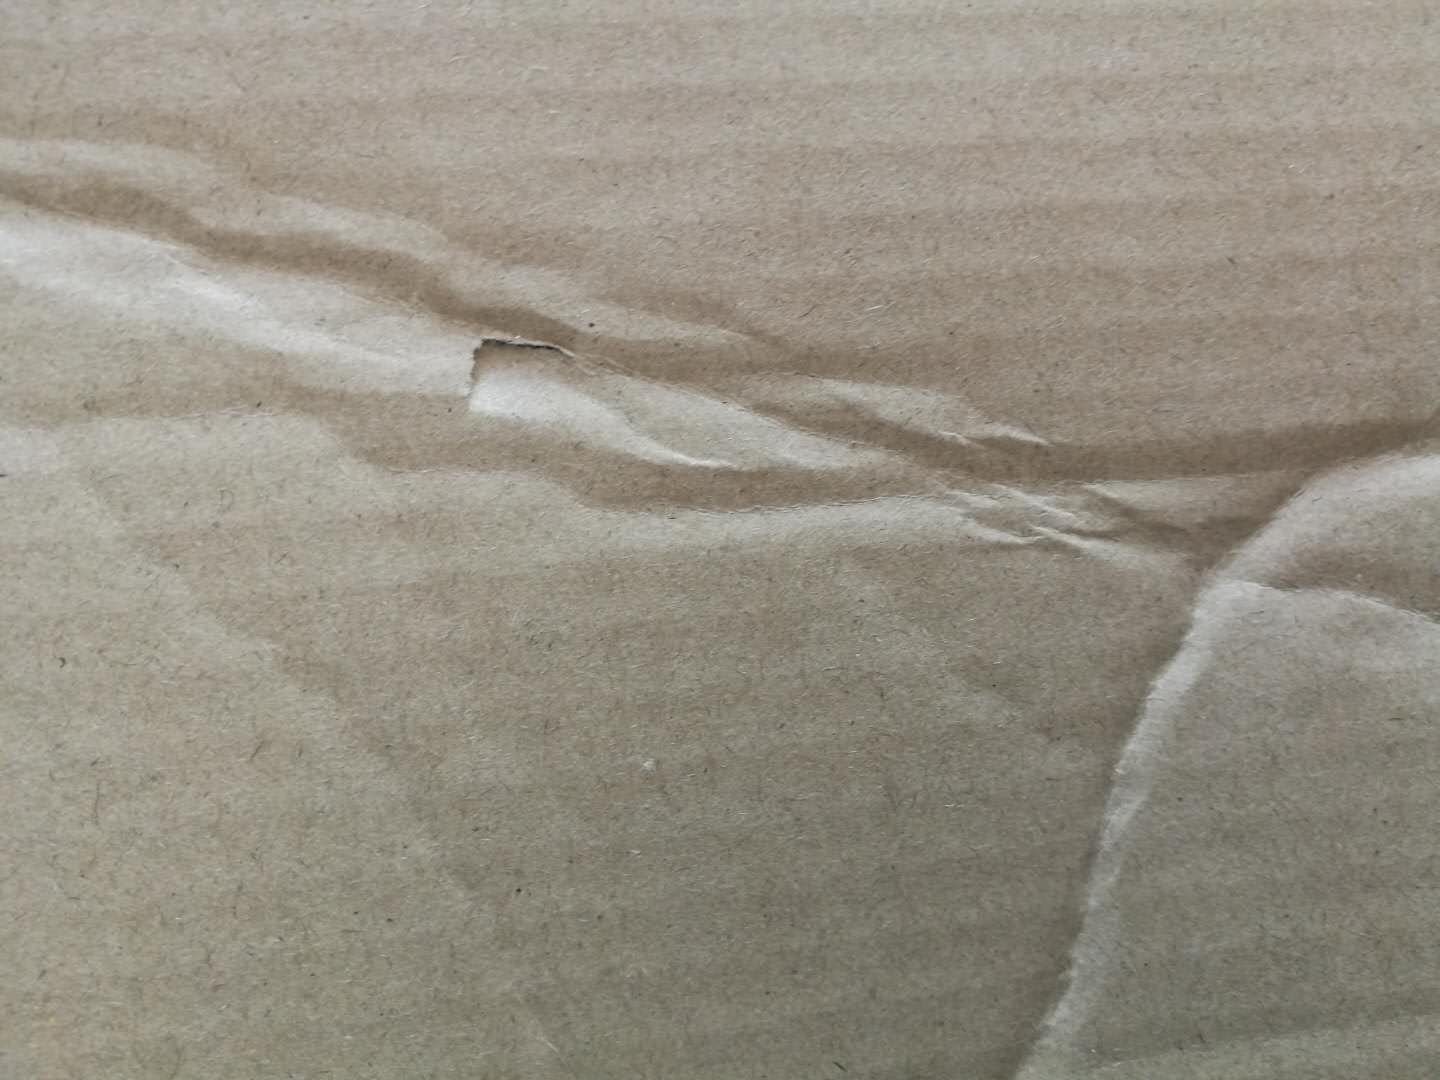defect: (1, 69, 1440, 652), (5, 395, 654, 1080), (964, 457, 1364, 1080)
